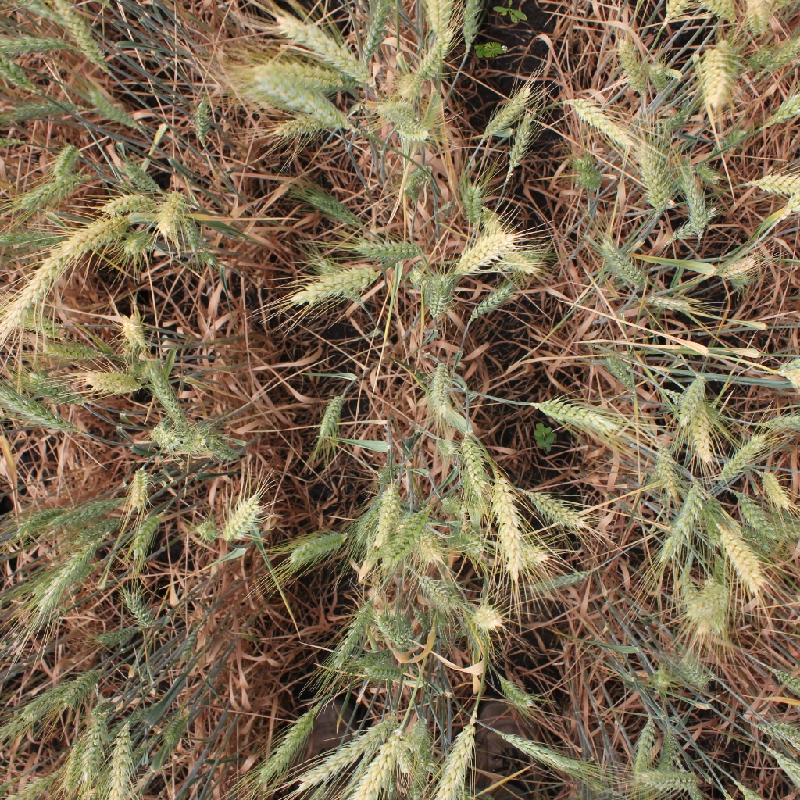spikelet: (300, 710, 400, 787), (274, 13, 375, 82), (499, 726, 606, 784), (249, 66, 348, 126), (1, 247, 69, 332), (252, 704, 318, 785), (339, 728, 405, 800), (288, 261, 380, 309), (654, 480, 706, 564), (32, 546, 96, 613), (1, 378, 77, 433), (488, 471, 527, 577), (28, 491, 121, 533), (53, 1, 109, 68), (17, 673, 93, 722), (534, 394, 624, 435), (716, 521, 766, 594), (432, 720, 478, 799), (568, 95, 635, 149), (326, 598, 375, 669), (77, 695, 114, 789), (250, 56, 342, 93), (695, 38, 742, 110), (381, 503, 428, 569), (453, 226, 514, 276), (595, 234, 649, 290), (283, 523, 346, 571), (631, 758, 704, 799), (634, 140, 674, 212), (62, 213, 126, 257), (481, 83, 533, 137), (101, 719, 136, 799), (376, 96, 432, 145), (715, 431, 767, 483), (84, 86, 144, 130), (143, 361, 187, 420), (526, 486, 586, 529), (16, 172, 82, 210), (734, 491, 780, 543), (351, 232, 424, 264), (370, 482, 402, 555), (220, 490, 264, 543), (456, 433, 489, 503), (696, 573, 732, 637), (304, 189, 364, 227), (504, 107, 539, 172), (359, 1, 399, 57), (23, 367, 83, 404), (525, 565, 592, 598), (676, 159, 708, 228), (352, 644, 406, 684), (414, 27, 453, 80), (177, 216, 217, 267), (614, 36, 649, 94), (687, 397, 717, 463), (56, 666, 102, 709), (414, 570, 461, 612), (59, 729, 88, 796), (468, 279, 516, 319), (271, 108, 329, 141), (10, 503, 62, 539), (406, 712, 436, 773), (84, 364, 141, 396), (374, 603, 416, 646), (671, 649, 716, 689), (628, 713, 658, 773), (674, 371, 707, 425), (128, 510, 164, 559), (153, 187, 187, 238), (765, 746, 799, 797), (1, 50, 41, 93), (68, 515, 121, 547), (119, 585, 157, 629), (6, 97, 72, 122), (100, 188, 156, 217), (754, 715, 800, 750), (651, 444, 681, 497), (760, 29, 799, 69), (496, 673, 537, 711), (426, 362, 455, 415), (760, 466, 794, 511), (47, 140, 81, 185), (315, 392, 345, 442), (159, 703, 193, 747), (1, 225, 58, 251), (569, 152, 605, 193), (424, 269, 453, 319), (119, 158, 161, 192), (752, 168, 799, 198), (467, 598, 504, 636), (601, 352, 637, 391), (446, 523, 486, 558), (769, 82, 800, 127), (41, 336, 99, 360), (1, 32, 61, 55), (376, 94, 420, 125), (123, 465, 152, 512), (414, 525, 447, 565), (677, 568, 701, 623), (655, 720, 684, 765), (497, 246, 541, 275), (459, 179, 487, 224), (722, 254, 757, 289), (400, 163, 433, 200), (645, 289, 693, 314), (92, 623, 138, 649), (148, 417, 182, 452), (458, 1, 484, 46), (204, 434, 243, 464), (420, 1, 455, 34), (121, 226, 157, 258), (712, 125, 750, 155), (119, 313, 148, 351), (770, 665, 800, 701), (743, 1, 775, 34), (393, 68, 424, 102), (645, 58, 675, 92), (191, 513, 221, 547), (192, 98, 214, 142), (691, 1, 737, 21), (761, 409, 799, 433), (647, 663, 673, 695), (661, 1, 698, 23), (438, 490, 468, 517), (472, 38, 508, 60), (433, 433, 460, 462), (693, 159, 722, 185), (776, 353, 799, 382)
weed: (493, 1, 527, 23), (534, 423, 557, 452), (474, 42, 508, 60)
